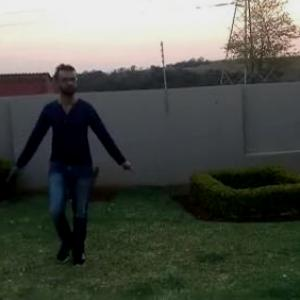land: (6, 61, 136, 270)
